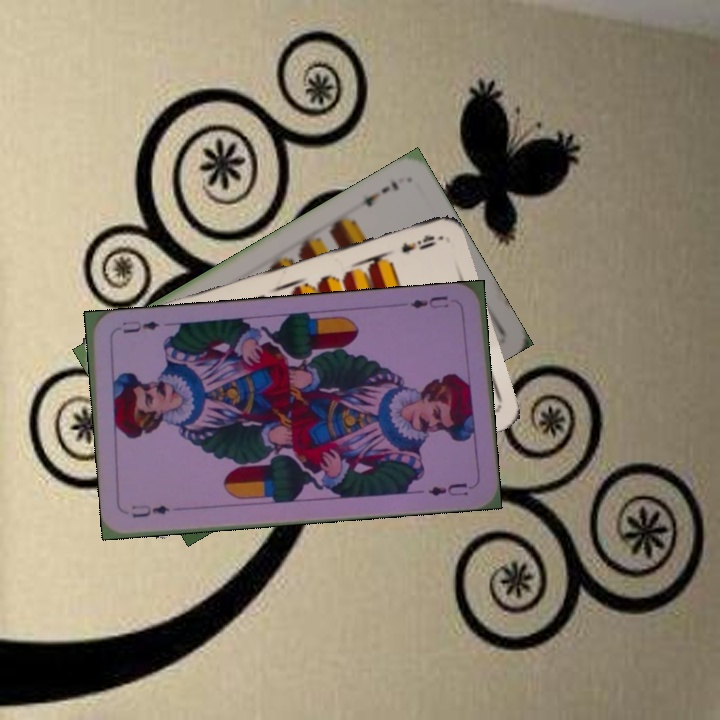E7: (359, 177, 401, 210)
E9: (397, 230, 440, 257)
EU: (127, 500, 172, 521), (407, 291, 451, 311)
